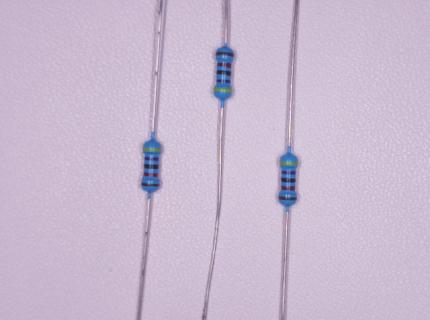Black band: (216, 70, 232, 77), (144, 164, 159, 170), (281, 177, 296, 183)
Brown band: (216, 52, 235, 58), (141, 182, 160, 187), (278, 196, 297, 201)
Red band: (217, 62, 232, 68), (143, 172, 159, 177), (281, 185, 295, 190)
Violet band: (281, 170, 296, 175), (216, 79, 231, 84), (144, 157, 159, 161)
Yellow band: (143, 147, 161, 152), (214, 88, 232, 93), (280, 161, 298, 165)
